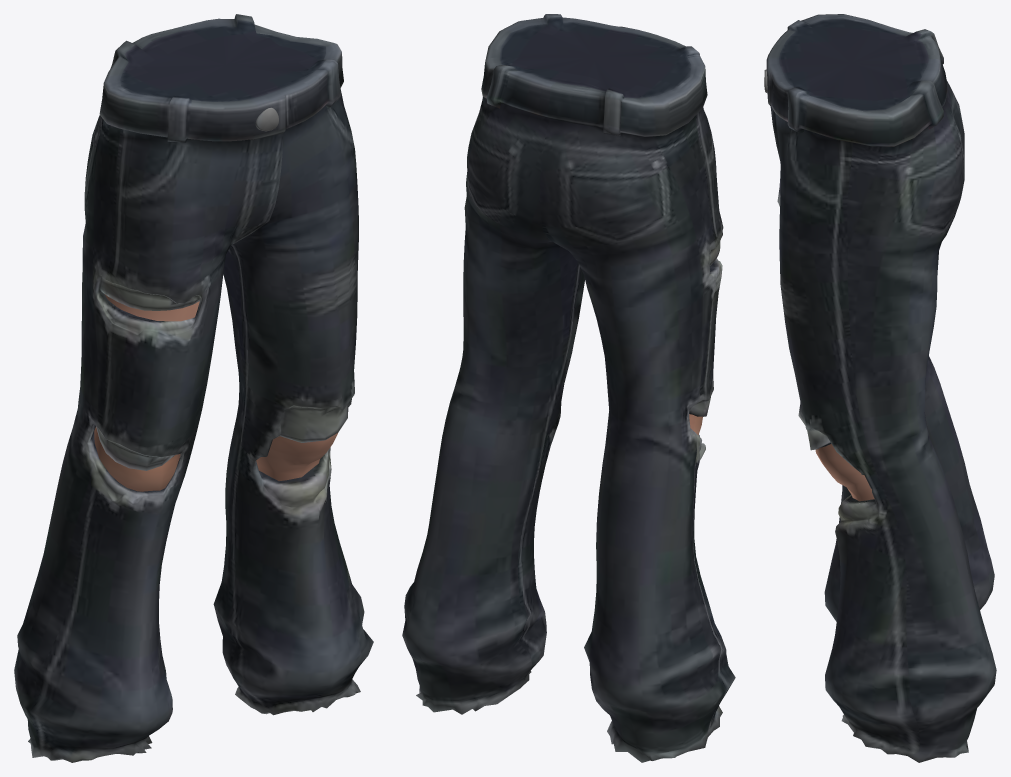
The model's file is leg4.glb.
3 views of the same model, side by side, from view 1: azimuth 30°, elevation 25°; view 2: azimuth 150°, elevation 25°; view 3: azimuth 270°, elevation 25° (orthographic). The views are drawn at different scales.
Visible parts, largest first — view 1: Wolf3D_Outfit_Bottom; view 2: Wolf3D_Outfit_Bottom; view 3: Wolf3D_Outfit_Bottom.
Boxes of the visible parts, x1=… form: Wolf3D_Outfit_Bottom: x1=14, y1=14, x2=373, y2=762; Wolf3D_Outfit_Bottom: x1=402, y1=14, x2=735, y2=762; Wolf3D_Outfit_Bottom: x1=764, y1=14, x2=996, y2=762.
Bounding box in the file's own units: 0.4864 × 0.9658 × 0.3153.
1 material, 1 textured.
